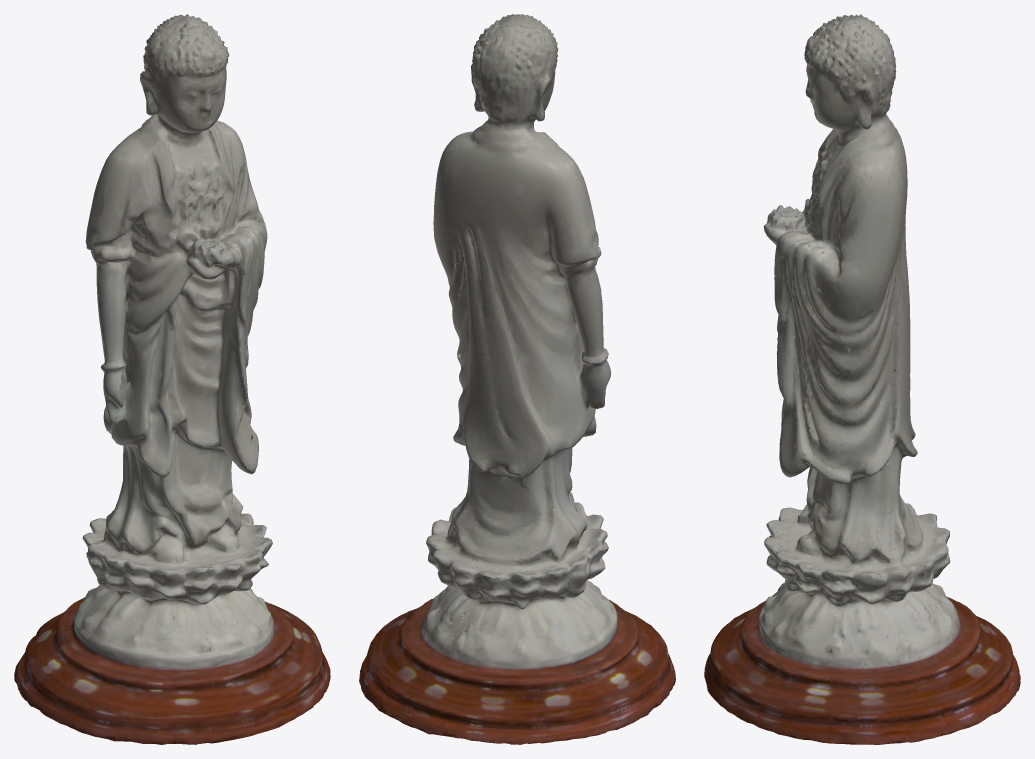
3 views of the same model, side by side, from view 1: azimuth 30°, elevation 25°; view 2: azimuth 150°, elevation 25°; view 3: azimuth 270°, elevation 25° (orthographic).
Parts seen in each view (by area): view 1: statue-017; view 2: statue-017; view 3: statue-017.
Boxes of the visible parts, x1,y1,x2,y2 form: statue-017: (14,14,330,744); statue-017: (359,14,675,744); statue-017: (704,14,1020,744).
Bounding box in the file's own units: 0.4334 × 1 × 0.4317.
1 material, 1 textured.
